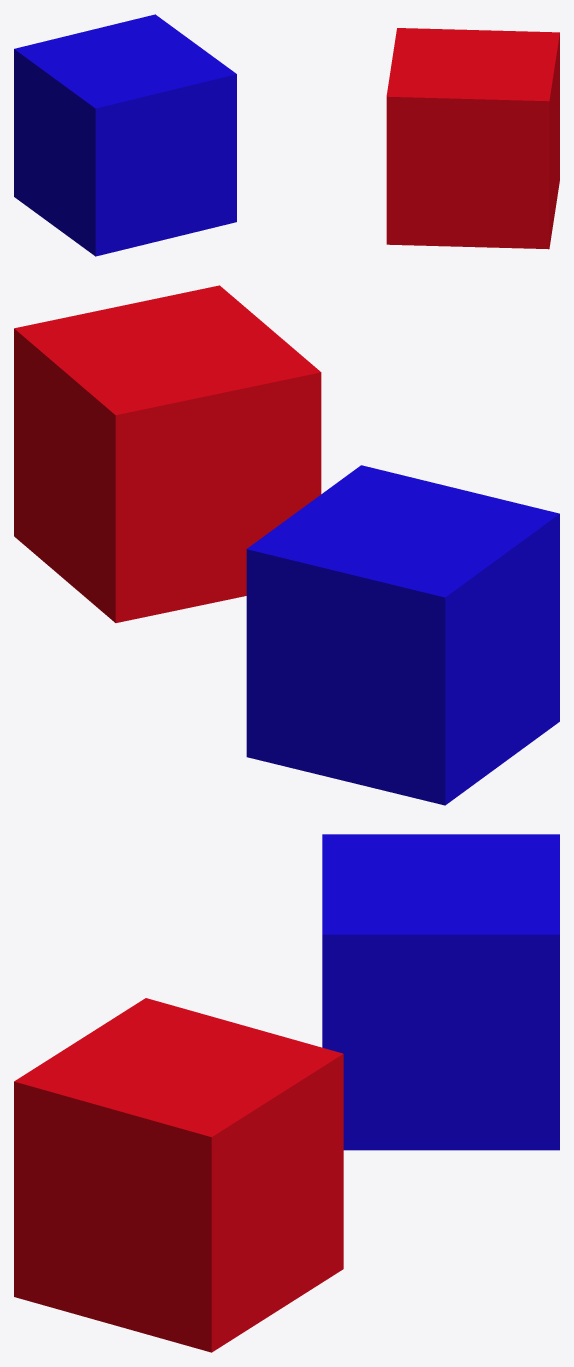
3 views of the same model, one above another, from view 1: azimuth 30°, elevation 25°; view 2: azimuth 150°, elevation 25°; view 3: azimuth 270°, elevation 25° (orthographic). The views are drawn at different scales.
Parts seen in each view (by area): view 1: Cube, Cube.001; view 2: Cube, Cube.001; view 3: Cube.001, Cube.
Boxes of the visible parts, bbox=[...] form: Cube: bbox=[14, 14, 236, 256]; Cube.001: bbox=[386, 28, 559, 249]; Cube: bbox=[246, 465, 559, 805]; Cube.001: bbox=[14, 285, 321, 622]; Cube.001: bbox=[14, 998, 343, 1352]; Cube: bbox=[322, 834, 559, 1150].
Size of what is drawn, in the model's own units: 603 by 200 by 459.
